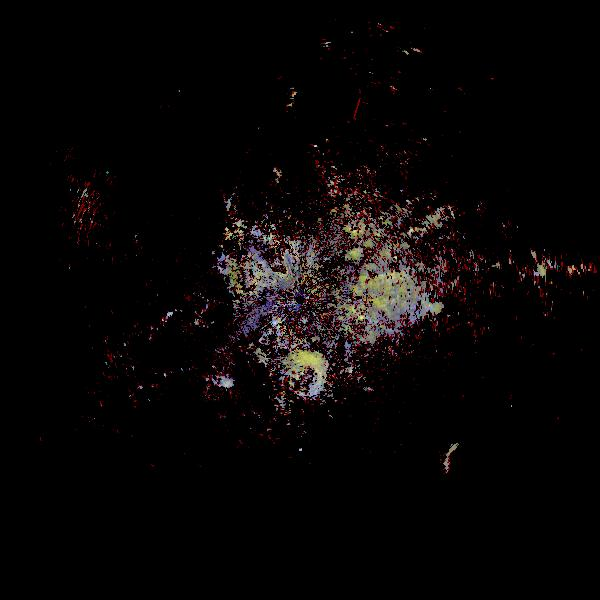roost: (271, 342, 337, 408), (439, 438, 487, 486)
